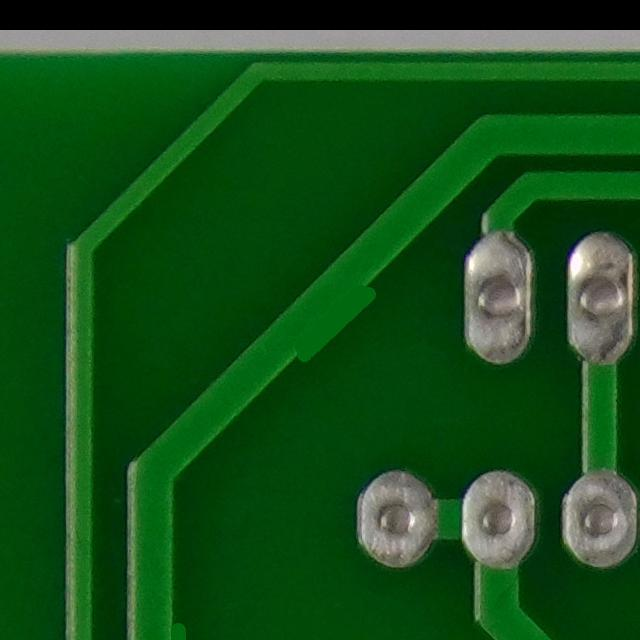spur: (258, 265, 382, 375)
